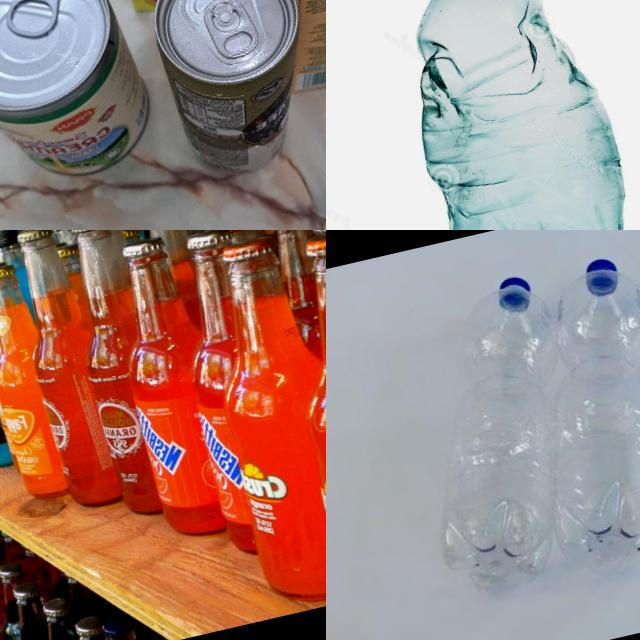aba de lata: (198, 0, 267, 67), (0, 0, 74, 45)
garrafa de vidro: (187, 231, 326, 610), (97, 230, 247, 543), (157, 230, 299, 559), (0, 230, 133, 515), (54, 230, 183, 522), (266, 230, 326, 600), (0, 260, 82, 503), (0, 237, 25, 472), (0, 578, 59, 640), (27, 595, 83, 640), (97, 613, 140, 640), (70, 612, 111, 640)
garrafa plástica: (386, 278, 608, 602), (380, 0, 640, 230), (497, 260, 640, 581)
lata: (139, 0, 326, 180), (0, 0, 162, 202)
tampa plástica: (582, 252, 620, 281), (494, 272, 532, 300)
